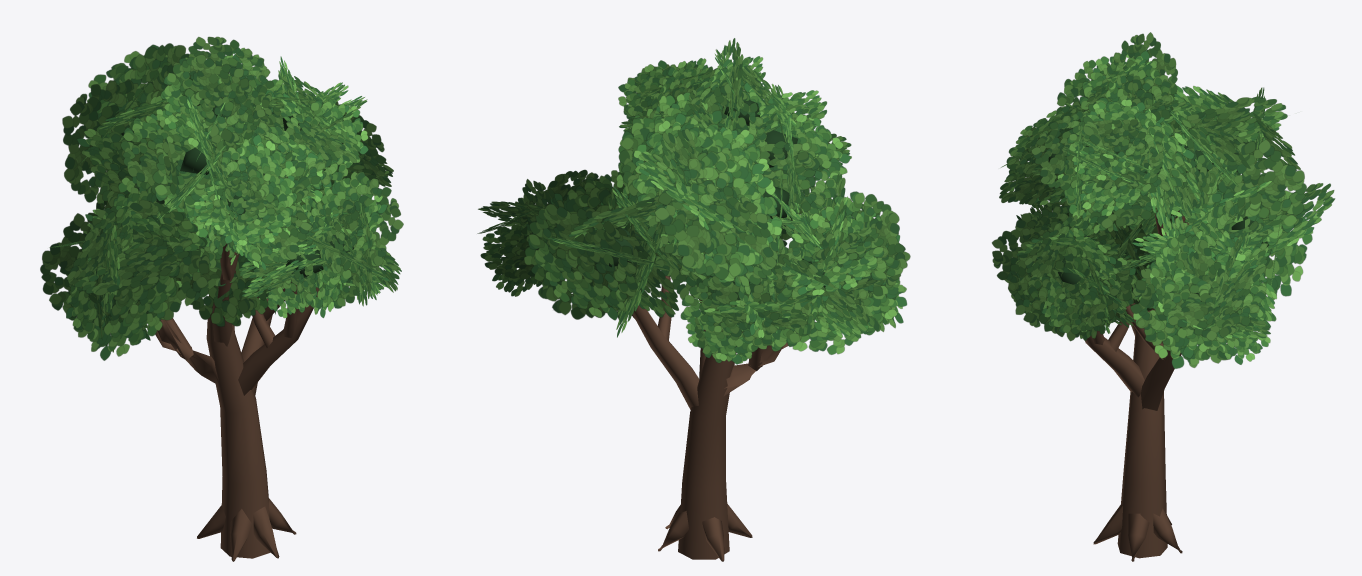
The model's file is nature_oak.glb.
3 views of the same model, side by side, from view 1: azimuth 30°, elevation 25°; view 2: azimuth 150°, elevation 25°; view 3: azimuth 270°, elevation 25° (orthographic). The views are drawn at different scales.
Visible parts, largest first — view 1: nature_oak; view 2: nature_oak; view 3: nature_oak.
Boxes of the visible parts, x1=… form: nature_oak: x1=40, y1=36, x2=403, y2=561; nature_oak: x1=477, y1=38, x2=910, y2=561; nature_oak: x1=992, y1=32, x2=1335, y2=561.
Bounding box in the file's own units: 5.79 × 7.23 × 4.76.
Materials: 3 (1 with a texture image).
